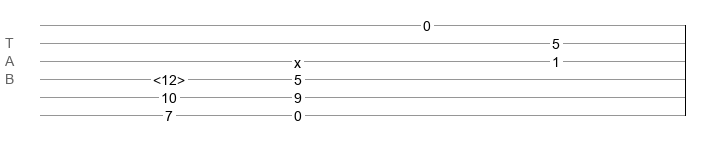0: (294, 108, 302, 118), (423, 18, 431, 28)
1: (552, 54, 560, 64)
10: (161, 90, 177, 100)
5: (294, 72, 302, 82), (552, 36, 560, 46)
7: (165, 108, 173, 118)
9: (294, 90, 302, 100)
harmonic: (153, 72, 185, 82)
x: (294, 55, 301, 63)
